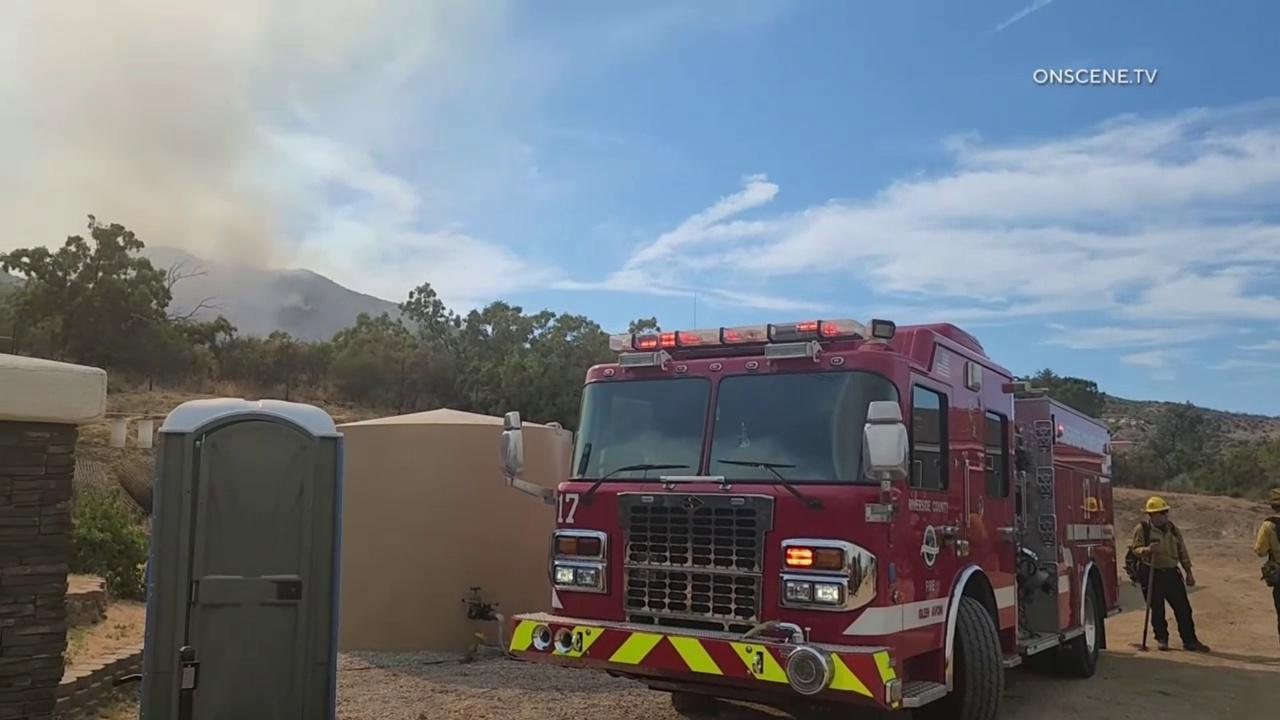smoke: (1, 0, 441, 338)
